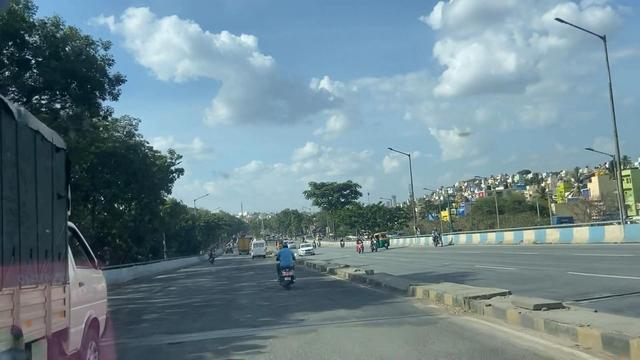HMV: (3, 107, 115, 360)
LMV: (271, 242, 299, 297)
